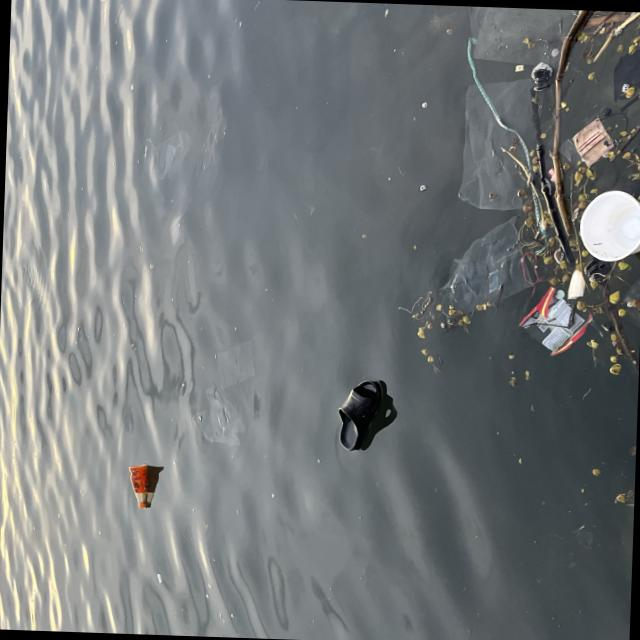foam: (577, 188, 640, 261), (530, 61, 553, 90), (567, 267, 586, 300)
plastic: (126, 462, 148, 508)
plastic bottle: (456, 76, 553, 210), (439, 212, 534, 316), (462, 5, 584, 66), (518, 283, 594, 354), (617, 254, 640, 392), (195, 386, 249, 444), (214, 338, 258, 387)
unknow: (337, 378, 382, 450), (572, 116, 616, 166), (611, 40, 640, 99), (584, 256, 612, 288)
